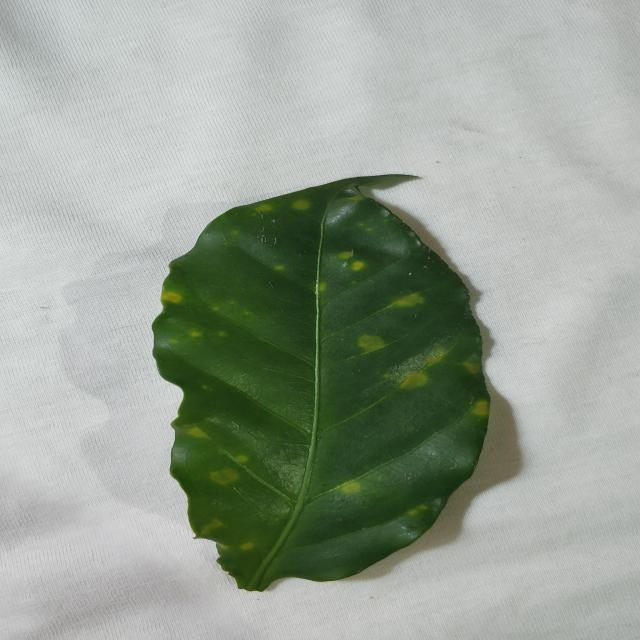Enfermedad-Roya: (151, 175, 493, 594)
